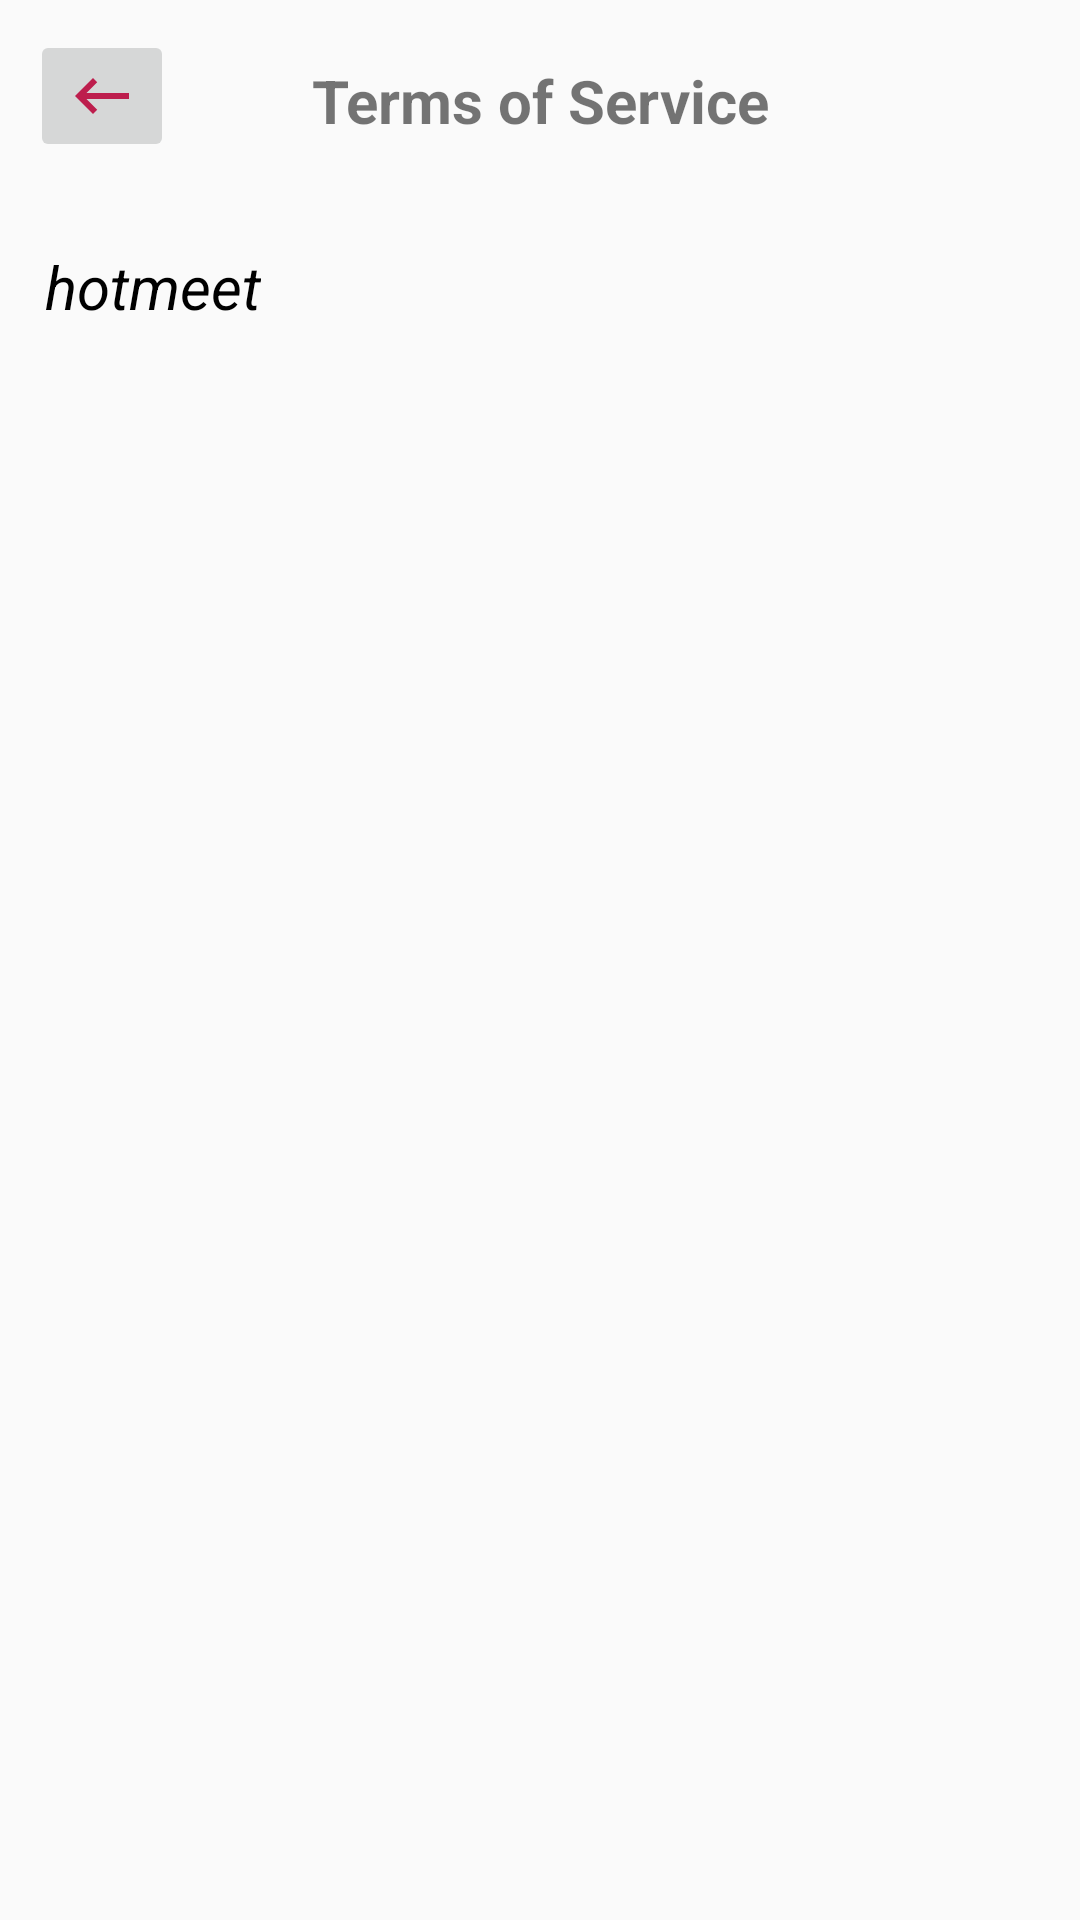

Locate icon controls on the screen. Image size 1080px x 1920px, boxes as (x1, y1, x2, y2).
back arrow: (42, 48, 162, 144)
